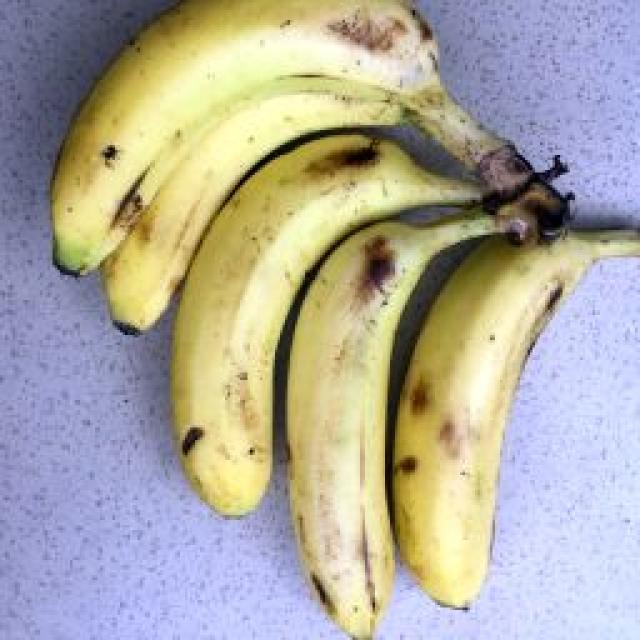banana: (46, 30, 516, 591)
